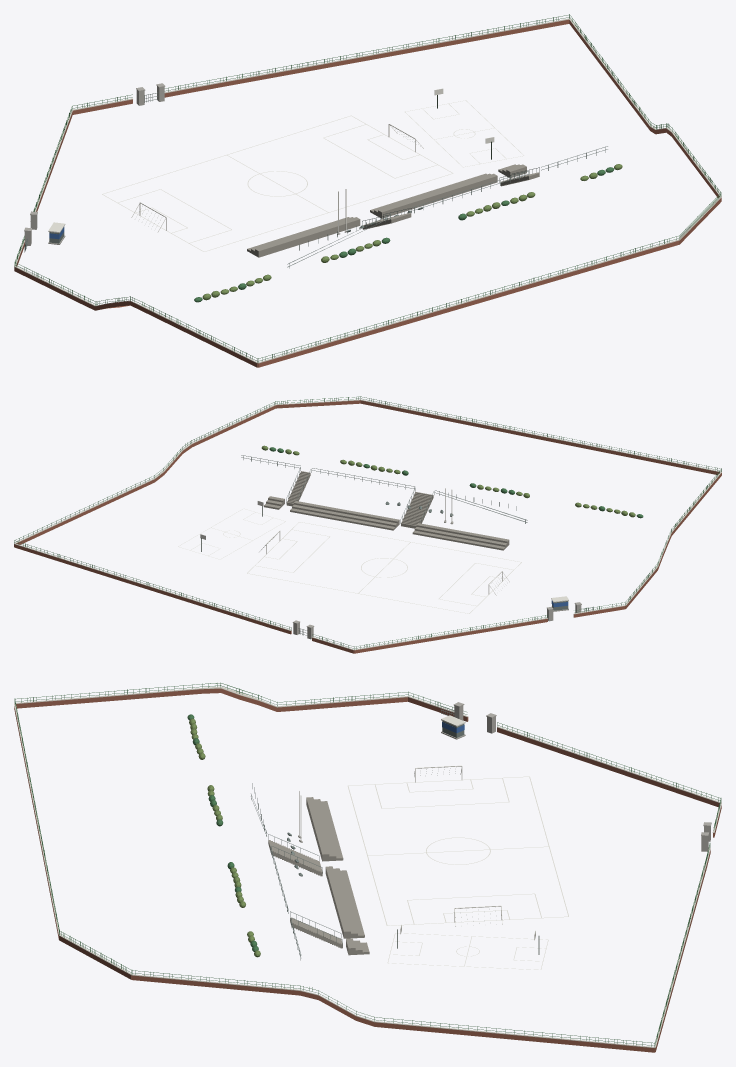
3 views of the same model, one above another, from view 1: azimuth 30°, elevation 25°; view 2: azimuth 150°, elevation 25°; view 3: azimuth 270°, elevation 25° (orthographic). The views are drawn at different scales.
Visible parts, largest first — view 1: prop_boundary-fence, prop_stand, prop_field-lines, prop_flowerbeds, prop_terrace-rail, prop_stairs; view 2: prop_boundary-fence, prop_stand, prop_stairs, prop_field-lines, prop_flowerbeds, prop_terrace-rail; view 3: prop_boundary-fence, prop_stand, prop_field-lines, prop_stairs, prop_flowerbeds.
Part boxes in pixels (x1,y1,x2,y2): prop_boundary-fence: [14, 14, 721, 367]; prop_stand: [247, 164, 526, 257]; prop_field-lines: [102, 115, 453, 251]; prop_flowerbeds: [194, 164, 622, 302]; prop_terrace-rail: [287, 146, 607, 268]; prop_stairs: [362, 167, 539, 229]; prop_boundary-fence: [14, 396, 721, 653]; prop_stand: [264, 496, 509, 550]; prop_stairs: [286, 467, 434, 528]; prop_field-lines: [247, 522, 521, 613]; prop_flowerbeds: [261, 445, 643, 518]; prop_terrace-rail: [241, 455, 527, 523]; prop_boundary-fence: [14, 682, 721, 1052]; prop_stand: [306, 797, 369, 955]; prop_field-lines: [347, 776, 568, 925]; prop_stairs: [268, 834, 342, 948]; prop_flowerbeds: [187, 714, 260, 957].
Bounding box in the file's own units: 130 × 9.75 × 110.
